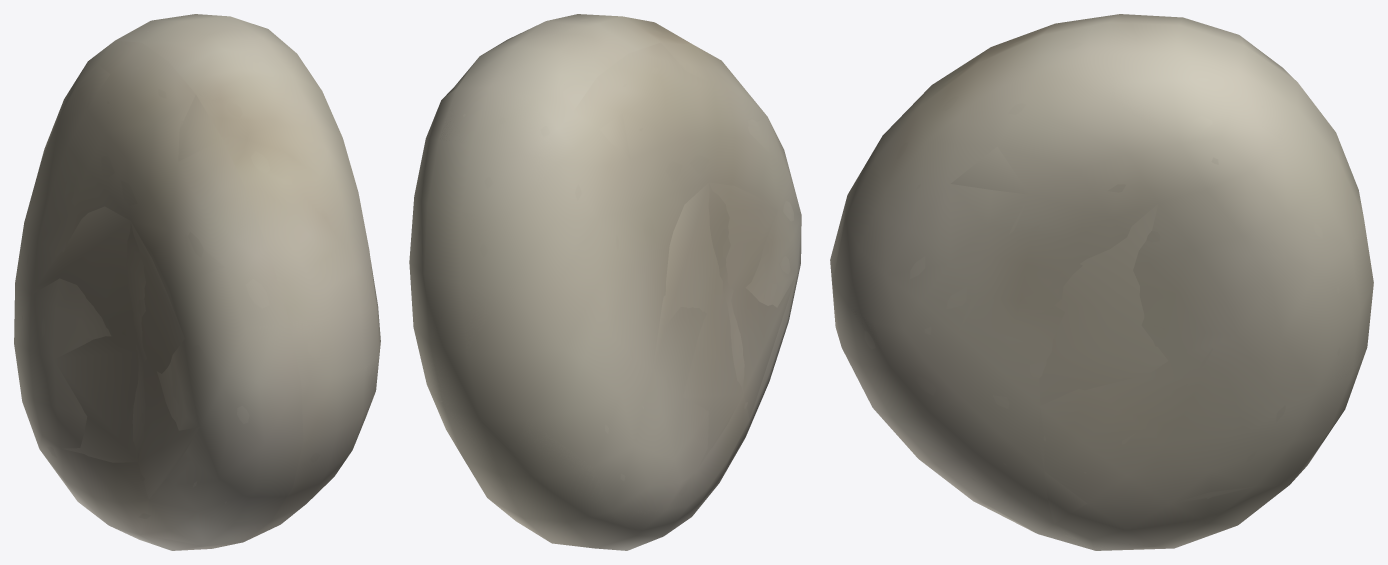
The model's file is L tarsale primum.fbx.
The picture shows the model from 3 angles, left to right: view 1: azimuth 30°, elevation 25°; view 2: azimuth 150°, elevation 25°; view 3: azimuth 270°, elevation 25°; orthographic projection. The views are drawn at different scales.
Visible parts, largest first — view 1: L tarsale primum, L tarsale primum low, L tarsale primum high; view 2: L tarsale primum, L tarsale primum low, L tarsale primum high; view 3: L tarsale primum, L tarsale primum low, L tarsale primum high.
Part boxes in pixels (x1,y1,x2,y2): L tarsale primum: [14, 14, 380, 550]; L tarsale primum low: [31, 14, 378, 550]; L tarsale primum high: [22, 31, 374, 547]; L tarsale primum: [409, 14, 801, 550]; L tarsale primum low: [425, 14, 796, 548]; L tarsale primum high: [418, 19, 793, 521]; L tarsale primum: [830, 14, 1373, 550]; L tarsale primum low: [835, 17, 1366, 550]; L tarsale primum high: [837, 19, 1350, 538].
Bounding box in the file's own units: 0.2287 × 0.4415 × 0.4079.
Materials: 1 (1 with a texture image).
